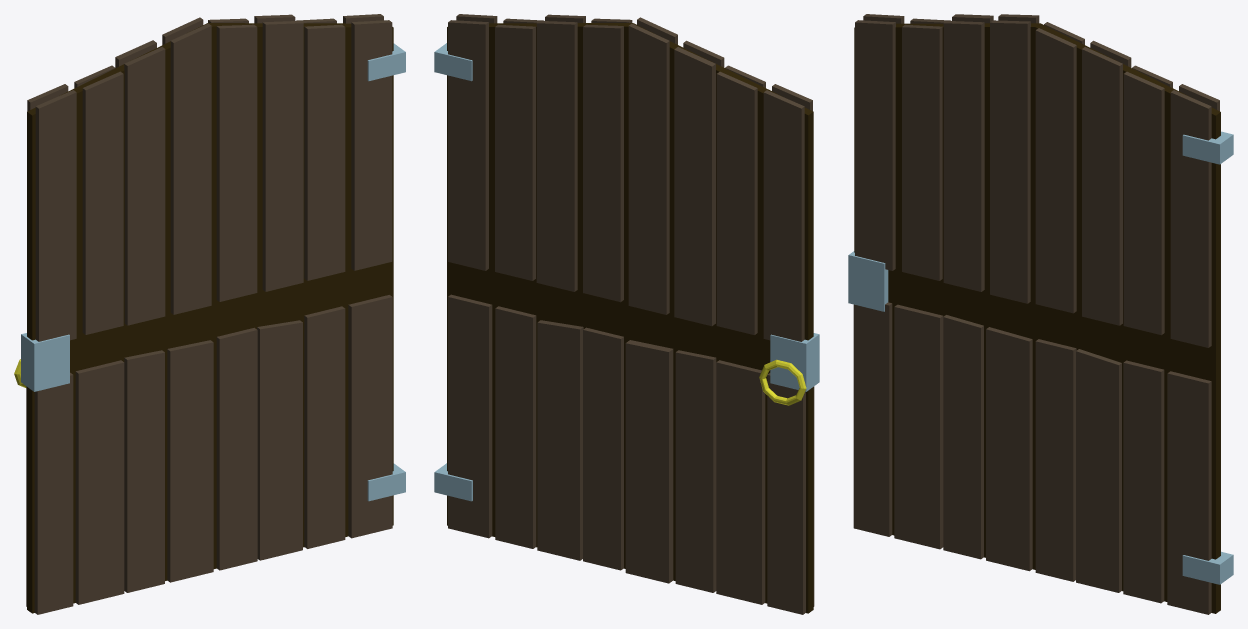
Rendered from Door.fbx.
3 renders of one model, left to right at view 1: azimuth 30°, elevation 25°; view 2: azimuth 150°, elevation 25°; view 3: azimuth 330°, elevation 25°, orthographic.
Parts seen in each view (by area): view 1: Door; view 2: Door; view 3: Door.
Boxes of the visible parts, <box> form: Door: <box>14,14,405,614</box>; Door: <box>434,14,819,614</box>; Door: <box>848,14,1233,614</box>.
Bounding box in the file's own units: 5.87 × 8.17 × 0.5231.
